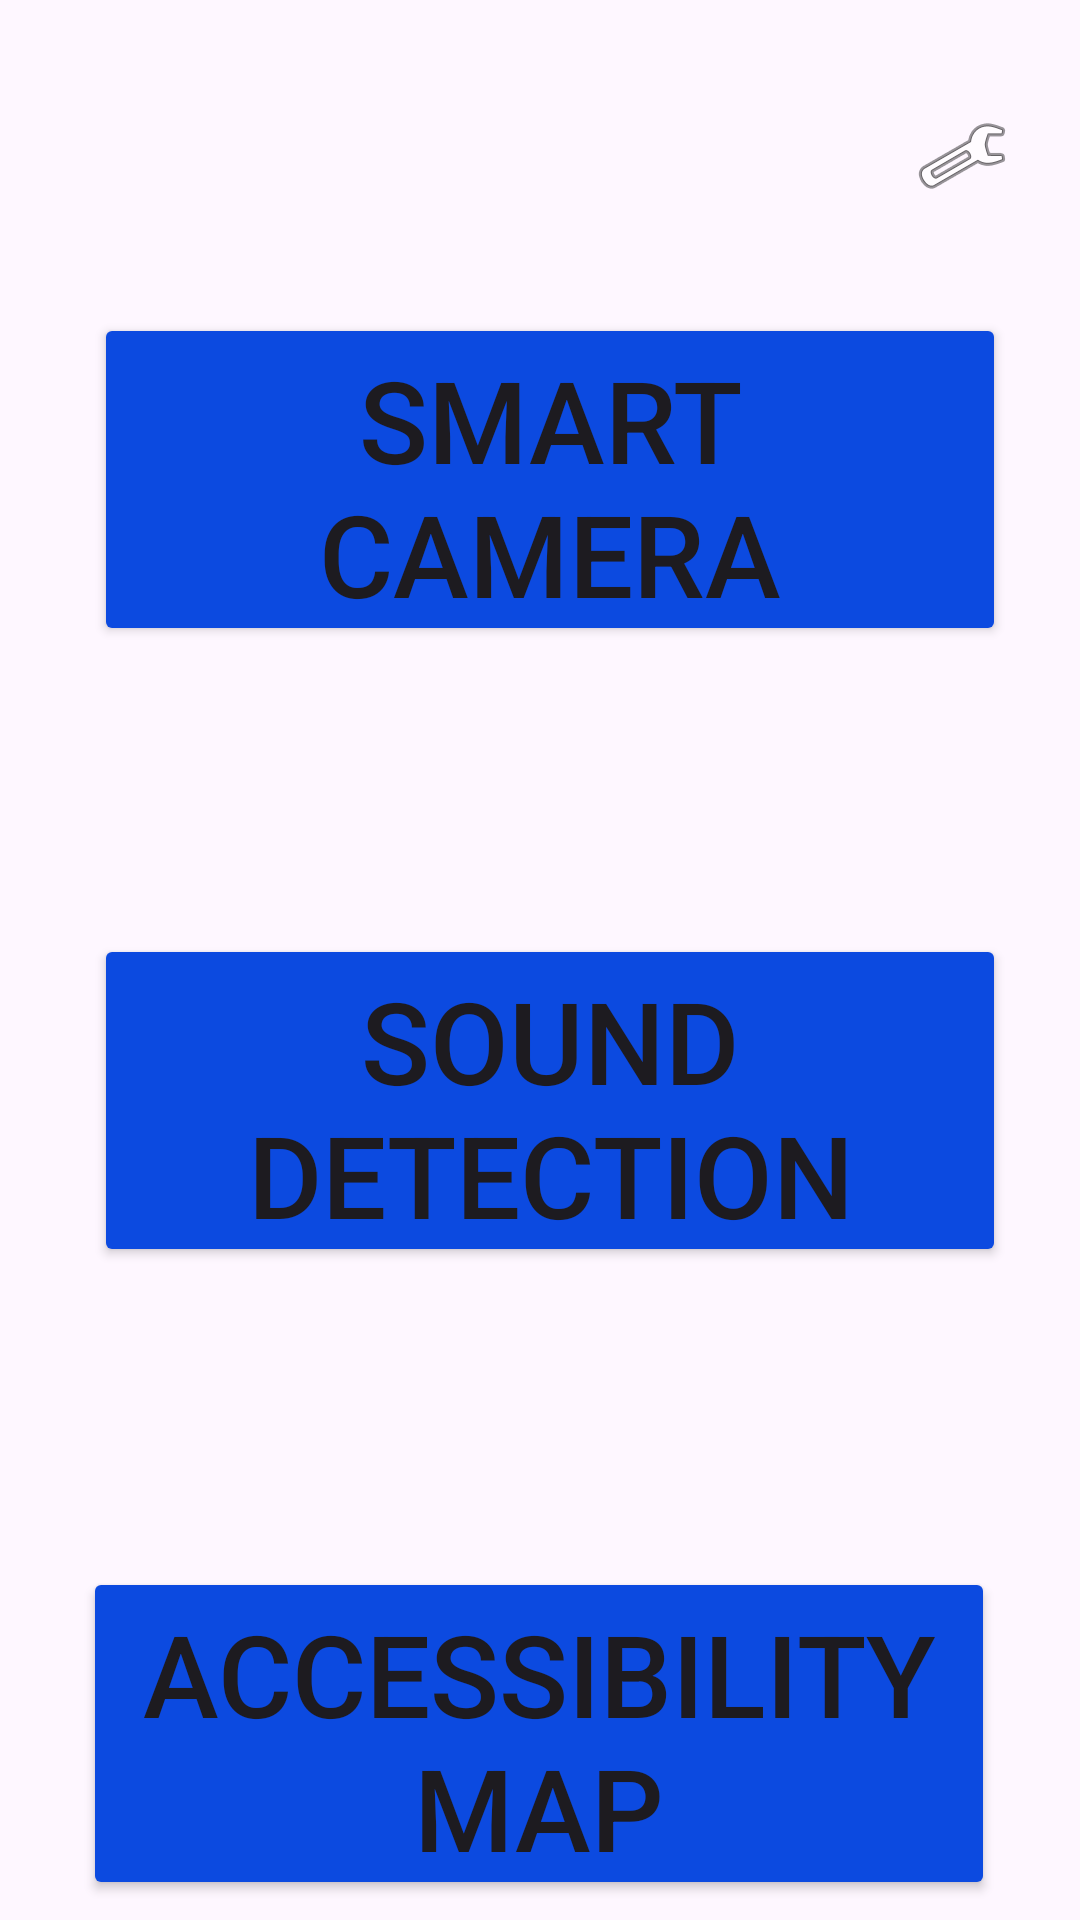

Icon click points for this 1080 × 1920 phone screenshot, format point (x, y):
Settings: point (962, 156)
